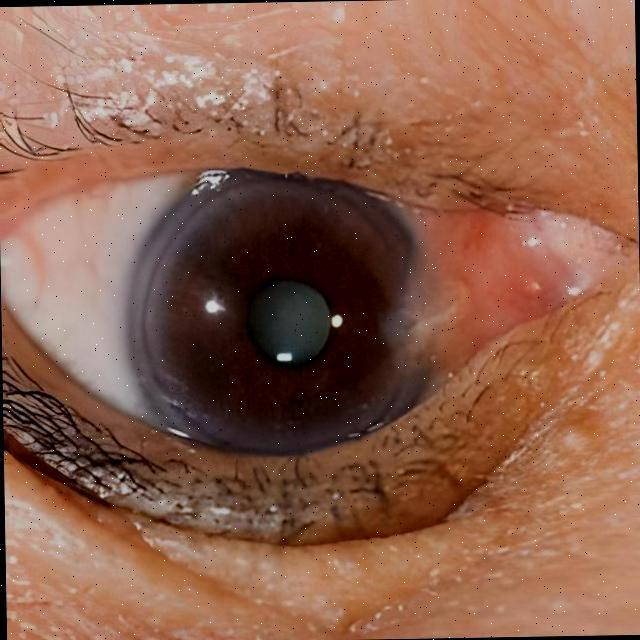Pterygium: (342, 208, 614, 384)
